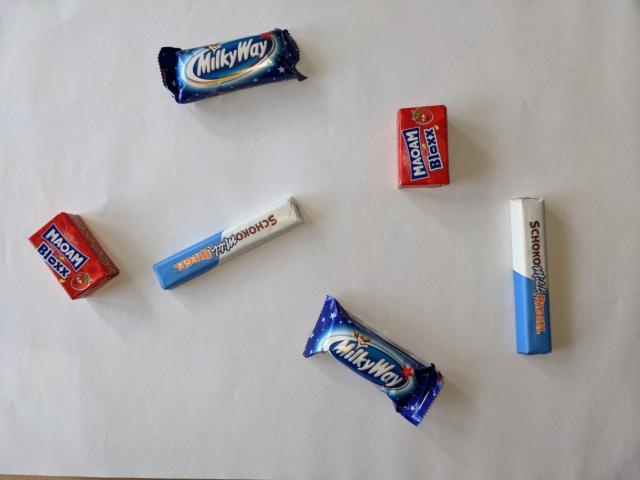MAOAM: (27, 210, 122, 302), (392, 103, 451, 192)
MilkyWay: (300, 292, 446, 428), (155, 25, 310, 107)
Schokoriegel: (150, 193, 306, 293), (506, 194, 555, 356)
